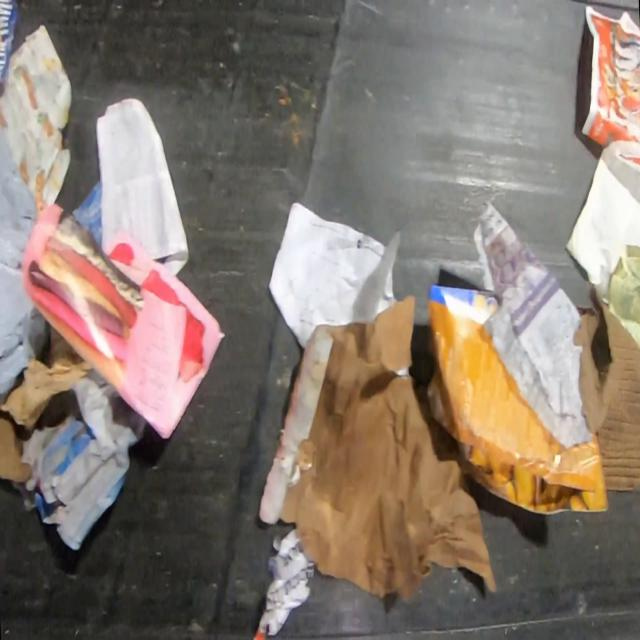cardboard: (427, 285, 609, 513), (572, 280, 640, 492), (0, 409, 35, 484)
soft_plastic: (0, 121, 49, 401)
